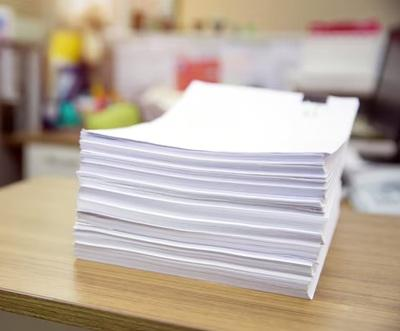plastic: (57, 51, 361, 305)
